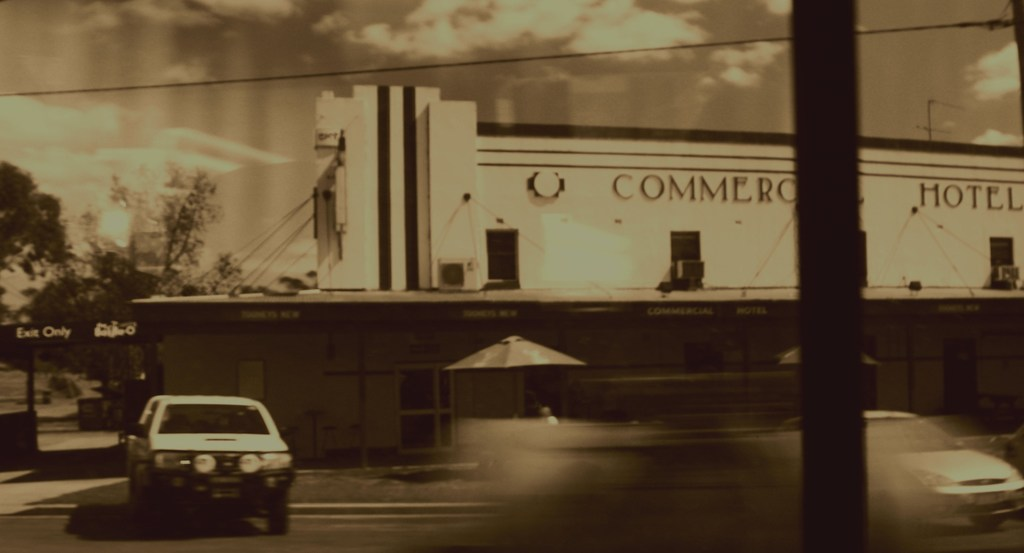Car: (779, 406, 1023, 529), (115, 391, 296, 533)
